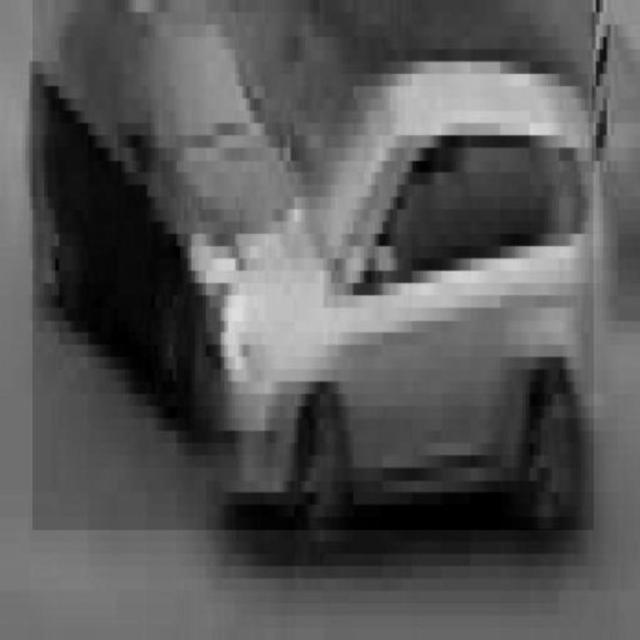accident: (33, 0, 594, 530)
